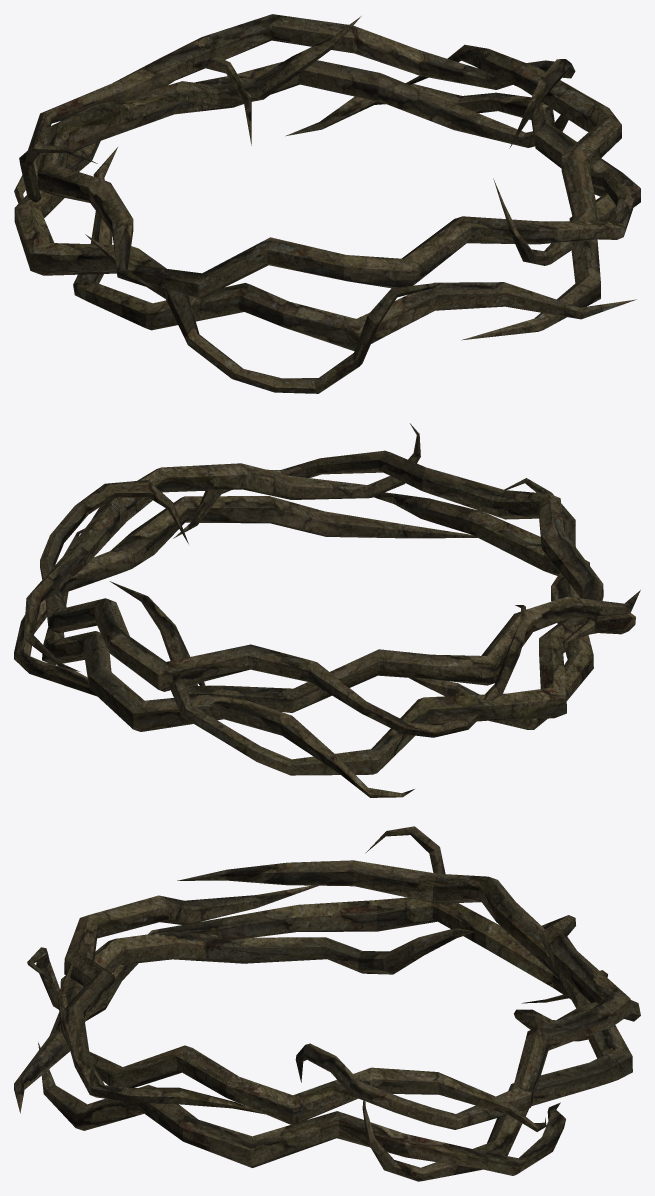
File: Portal.fbx
3 renders of one model, top to bottom at view 1: azimuth 30°, elevation 25°; view 2: azimuth 150°, elevation 25°; view 3: azimuth 270°, elevation 25°, orthographic. The views are drawn at different scales.
Visible parts, largest first — view 1: Portal_Branches; view 2: Portal_Branches; view 3: Portal_Branches.
Boxes of the visible parts, box(x1,y1,x2,y2) form: Portal_Branches: box(14, 14, 640, 393); Portal_Branches: box(14, 423, 640, 797); Portal_Branches: box(14, 826, 640, 1181).
Bounding box in the file's own units: 1672 × 509 × 1741.
